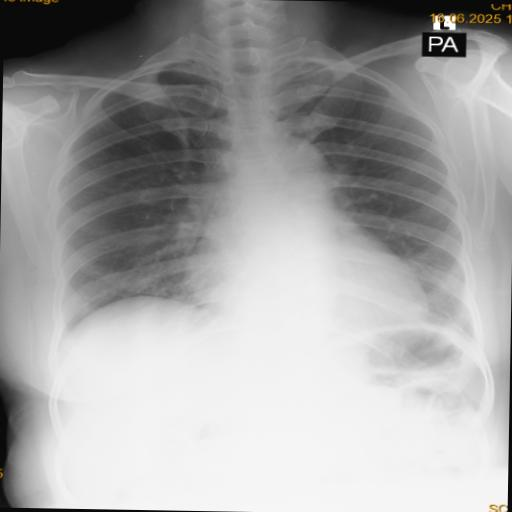kardiomegali: (25, 35, 510, 414)
